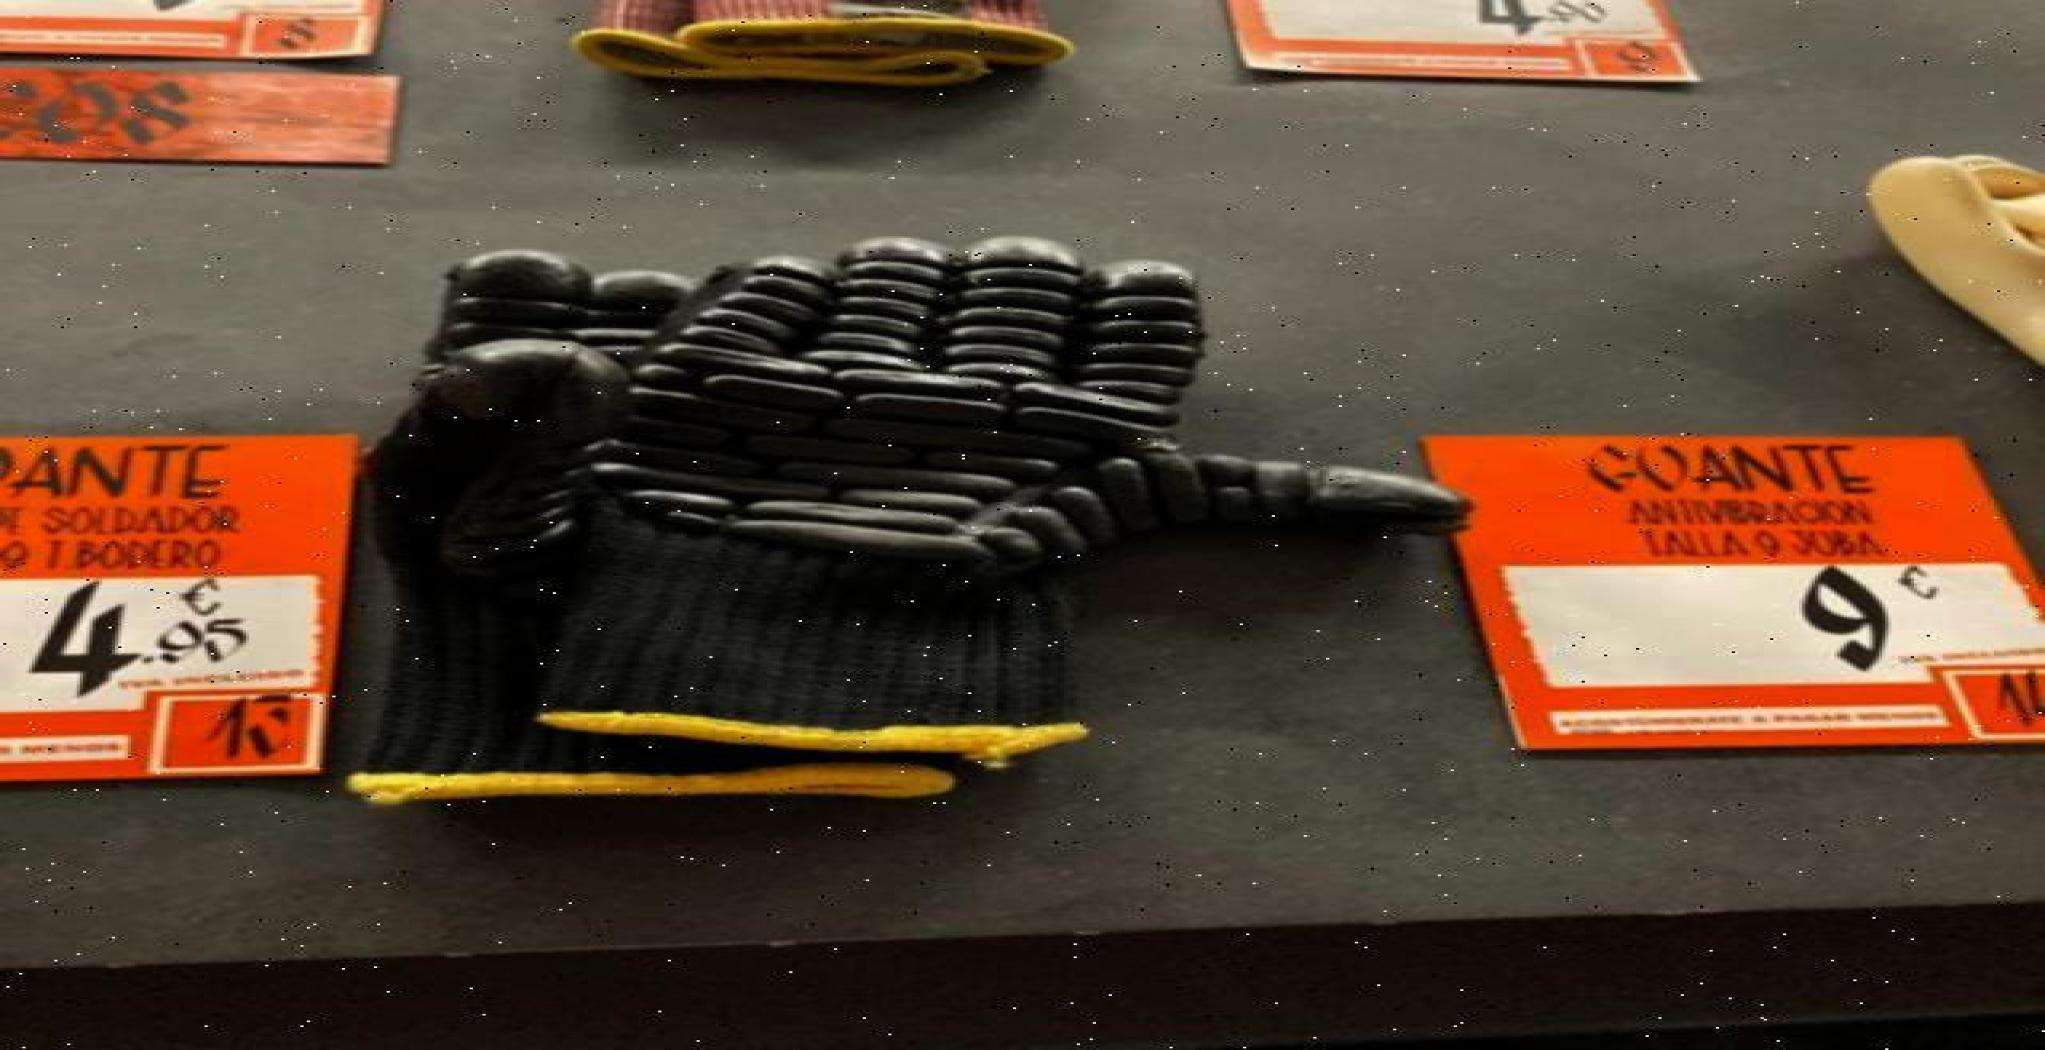gloved: (339, 232, 1473, 808)
